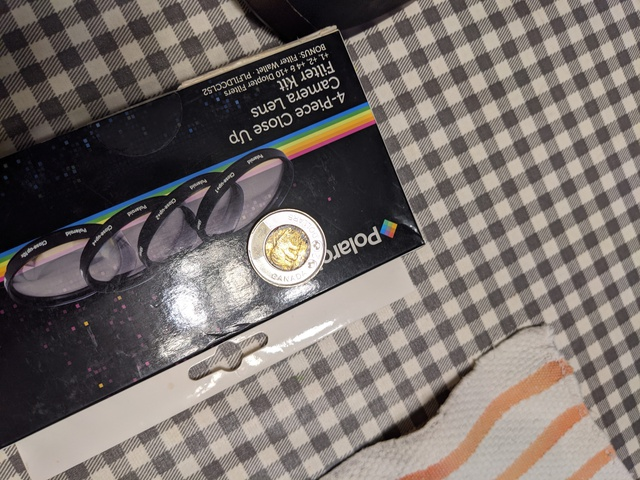twonie: (243, 208, 327, 290)
